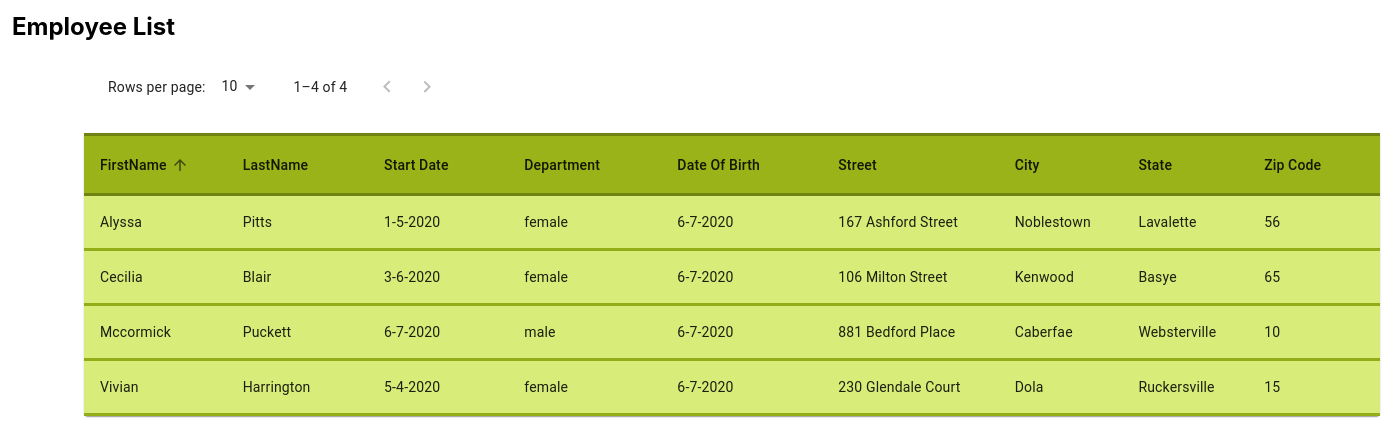
Test: Quand le tableau est affiché › Quand on veut trier de manière croissante › on filtre les rues par ordre croissant
The width and height of the screenshot is (1398, 435).
Step 1. Click the button "Street" → {"x": 858, "y": 165}, box [838,157,877,173]
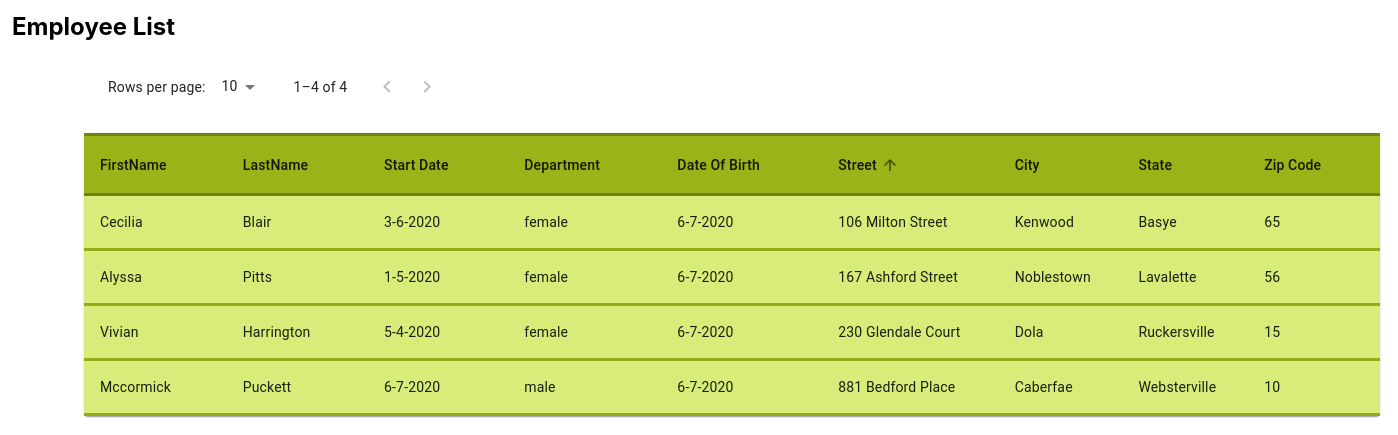
Result: the cell with test id "street" reads "106 Milton Street" at [838,214,948,230]
